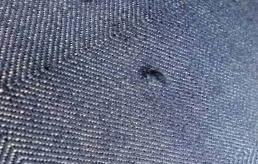knot: (141, 66, 172, 89)
